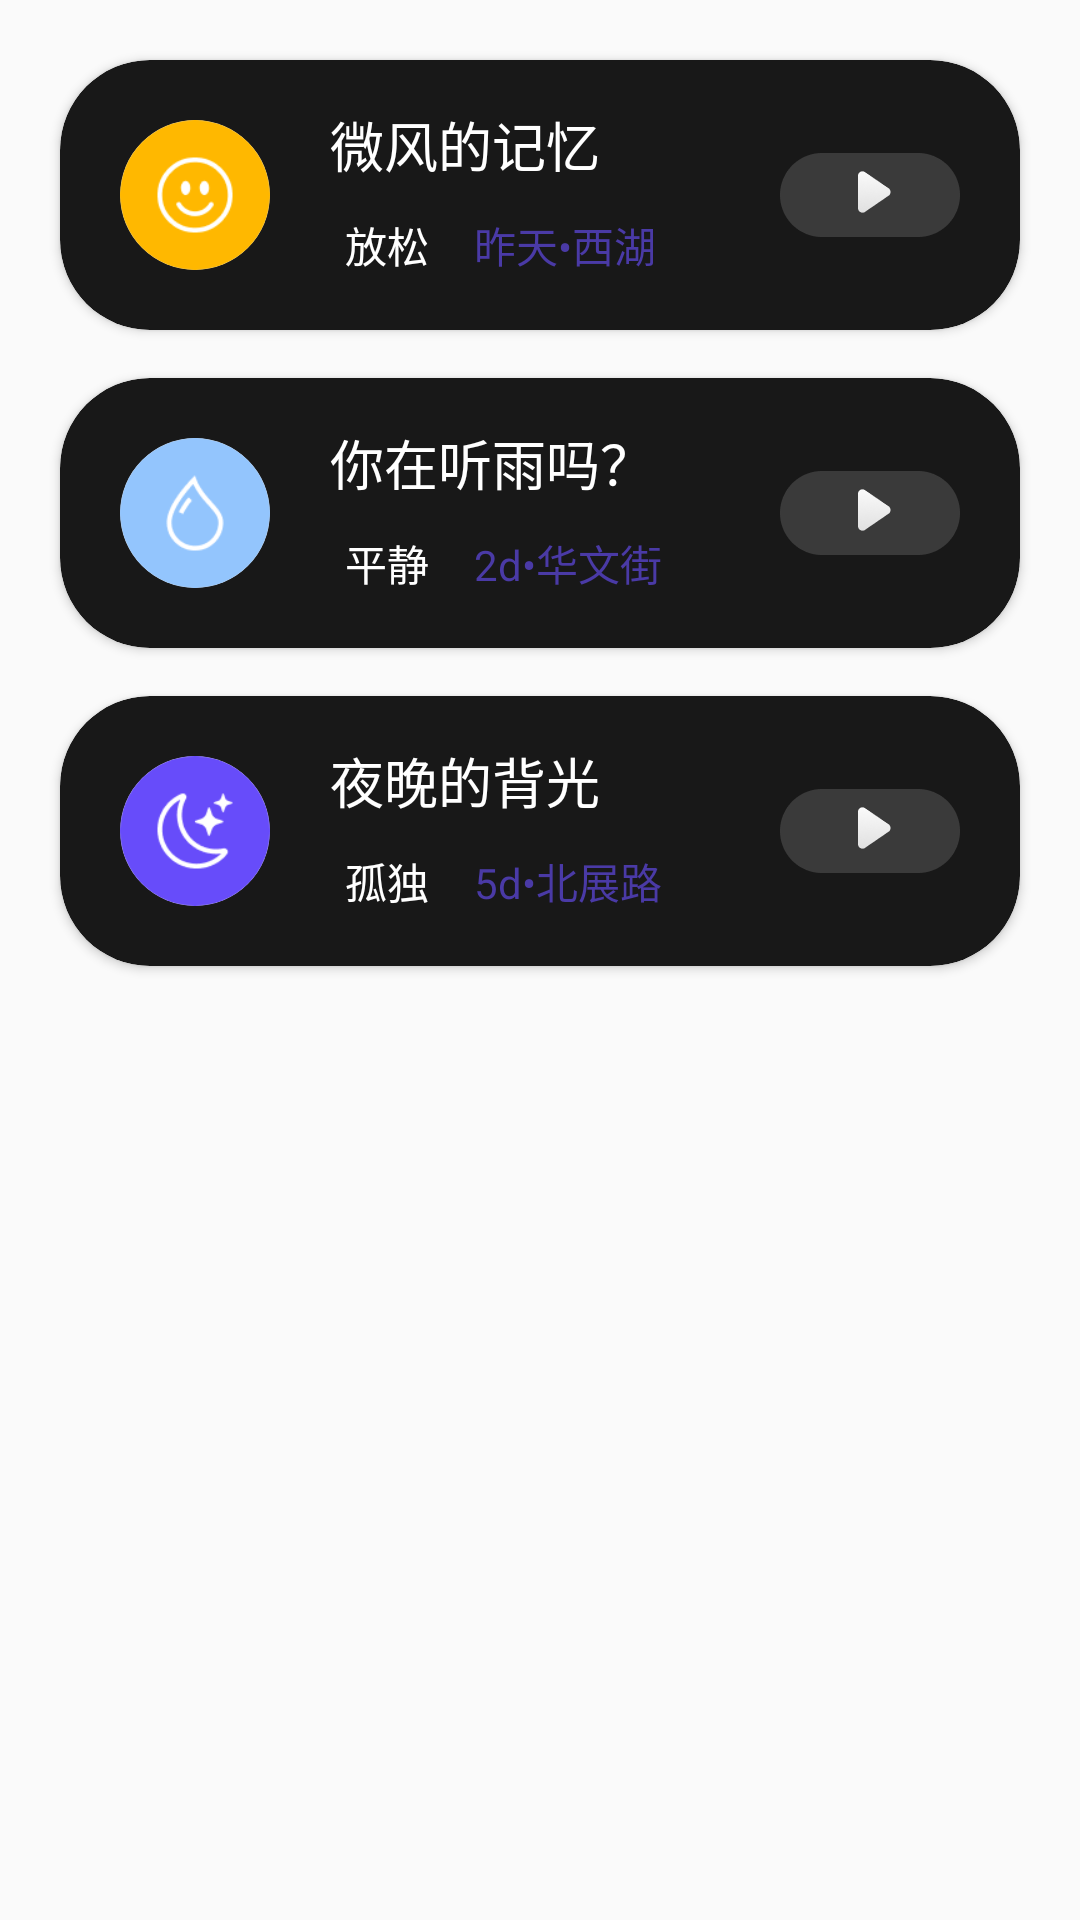

Icon click points for this 1080×1920 phone screenshot, format [x,y]:
bofang: [870,195], [870,513], [870,831]
shuidi: [195,513]
xiaolian: [195,195]
yueliang: [195,831]
